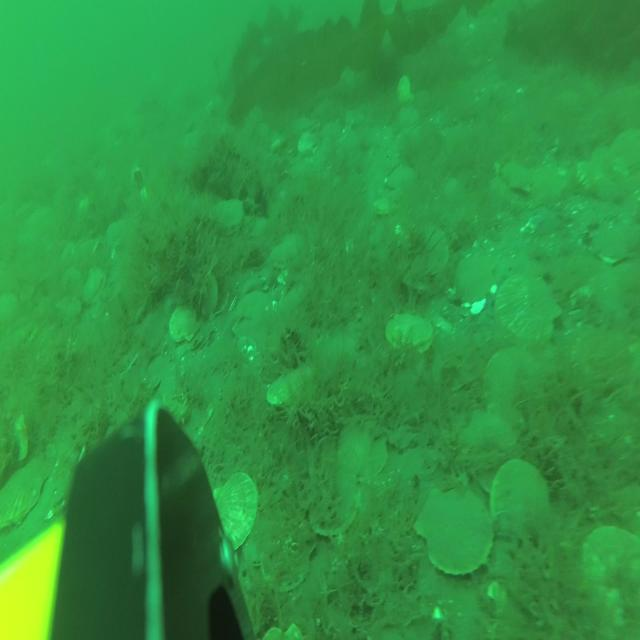scallop: (418, 482, 495, 583), (490, 456, 552, 546), (496, 268, 562, 352), (308, 449, 363, 532), (394, 220, 450, 294), (264, 514, 316, 591), (214, 470, 260, 553), (1, 454, 51, 530), (338, 415, 388, 480), (265, 356, 314, 409), (484, 352, 524, 411), (387, 310, 433, 361), (456, 251, 494, 306), (577, 156, 619, 204), (589, 223, 631, 268), (144, 353, 180, 405), (213, 199, 246, 235), (168, 302, 196, 342), (385, 164, 418, 196), (198, 265, 218, 315), (56, 291, 82, 327), (84, 268, 108, 306), (502, 162, 528, 196), (105, 221, 128, 252), (398, 100, 421, 129), (397, 72, 412, 107)
